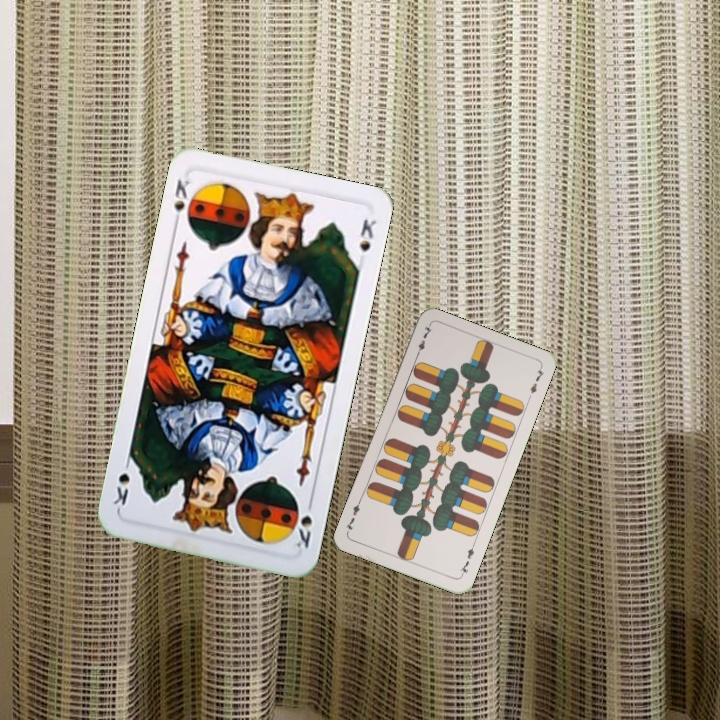E7: (455, 540, 478, 579), (412, 321, 434, 360)
SK: (292, 494, 316, 553), (169, 175, 193, 230)
